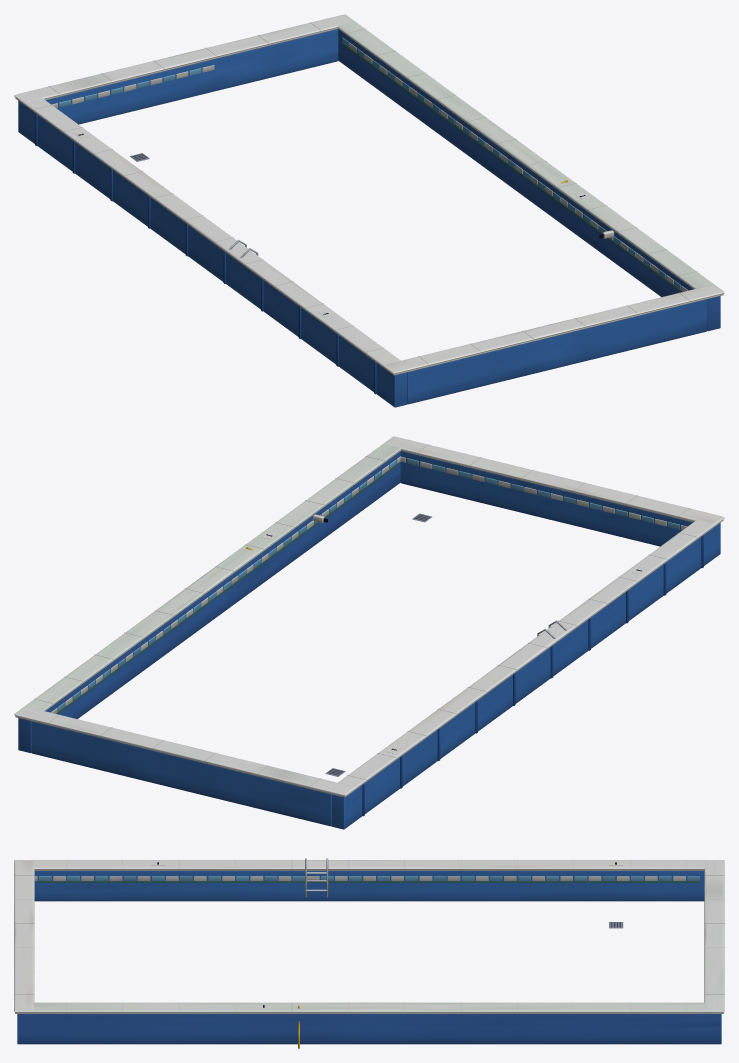
The model's file is SM_Tank_Basin.fbx.
The picture shows the model from 3 angles, top to bottom: view 1: azimuth 30°, elevation 25°; view 2: azimuth 150°, elevation 25°; view 3: azimuth 270°, elevation 25°; orthographic projection. The views are drawn at different scales.
Visible parts, largest first — view 1: SM_Tank_Basin; view 2: SM_Tank_Basin; view 3: SM_Tank_Basin.
Boxes of the visible parts, left/top/right/bottom form: SM_Tank_Basin: left=14, top=14, right=724, bottom=407; SM_Tank_Basin: left=14, top=436, right=724, bottom=829; SM_Tank_Basin: left=14, top=858, right=724, bottom=1048.
Size of the model in its own units: 1041 by 131 by 2018.
